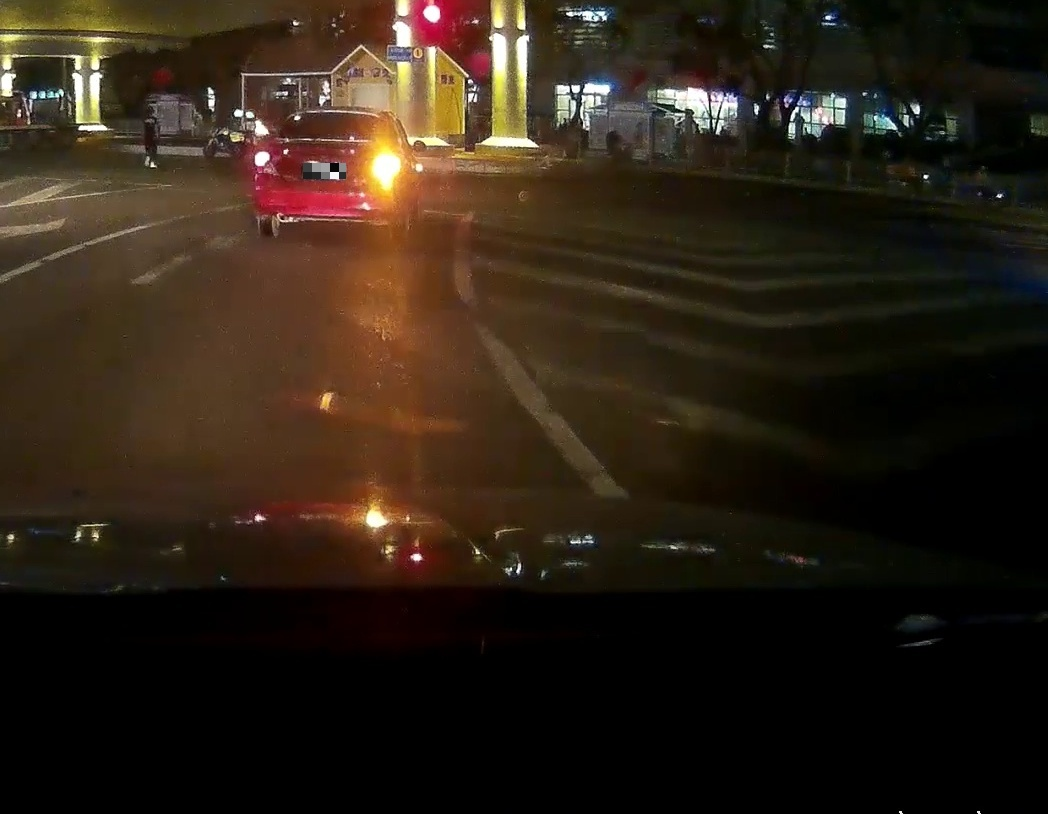L_light: (255, 151, 270, 166)
R_light: (372, 154, 400, 180)
T_light: (325, 112, 350, 116)
night-right: (253, 106, 402, 242)
plate_1: (303, 163, 346, 179)
